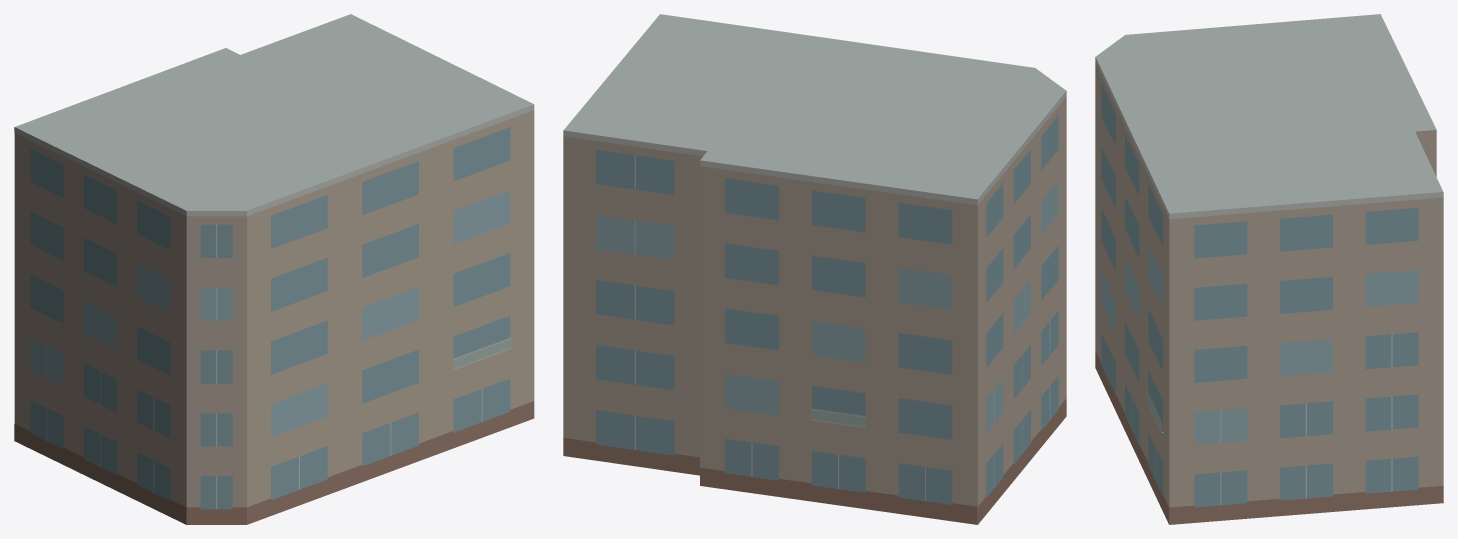
File: survey-upis-32705557.glb
The picture shows the model from 3 angles, left to right: view 1: azimuth 30°, elevation 25°; view 2: azimuth 150°, elevation 25°; view 3: azimuth 270°, elevation 25°; orthographic projection. The views are drawn at different scales.
Visible parts, largest first — view 1: survey-upis-32705557.tmp; view 2: survey-upis-32705557.tmp; view 3: survey-upis-32705557.tmp.
Part boxes in pixels (x1=…): survey-upis-32705557.tmp: x1=14, y1=14, x2=534, y2=524; survey-upis-32705557.tmp: x1=563, y1=14, x2=1066, y2=524; survey-upis-32705557.tmp: x1=1095, y1=14, x2=1443, y2=524.
Size of the model in its own units: 18.8 by 13.65 by 13.85.
